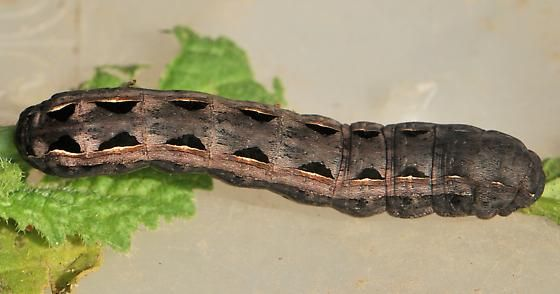Armyworm: (14, 74, 560, 241)
